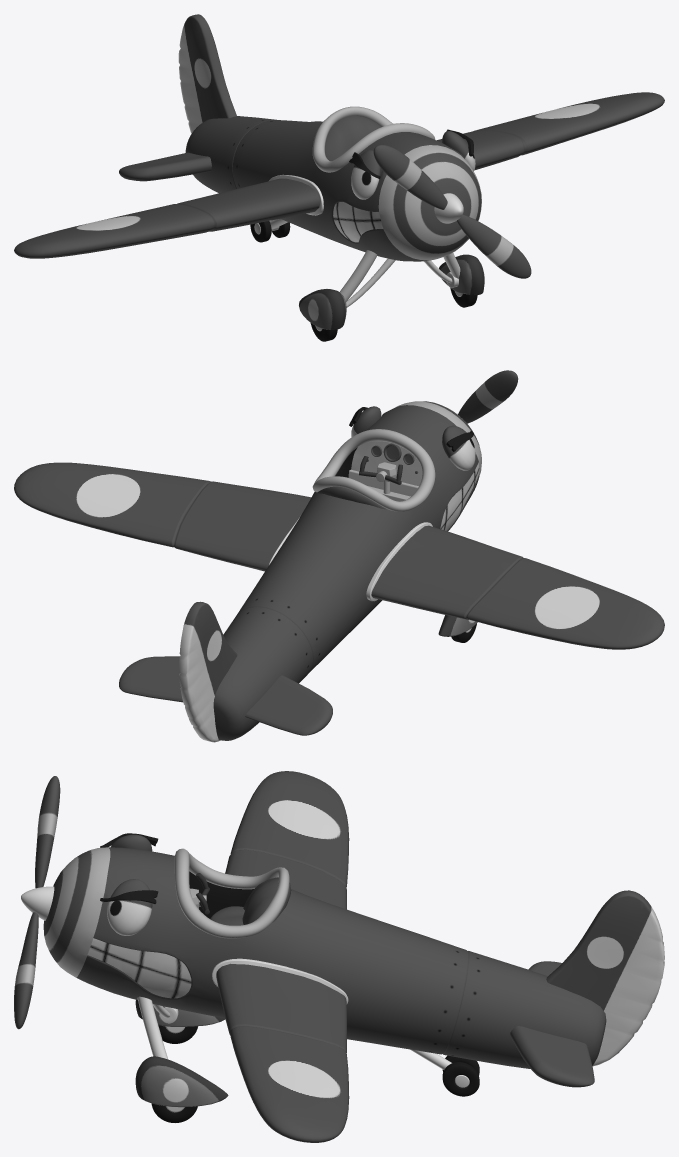
3 views of the same model, one above another, from view 1: azimuth 30°, elevation 25°; view 2: azimuth 150°, elevation 25°; view 3: azimuth 270°, elevation 25° (orthographic). The views are drawn at different scales.
Visible parts, largest first — view 1: personified_plane.1; view 2: personified_plane.1; view 3: personified_plane.1.
Part boxes in pixels (box(x1,y1,x2,y2)): personified_plane.1: box(14, 14, 664, 341); personified_plane.1: box(14, 370, 664, 742); personified_plane.1: box(14, 771, 664, 1142).
Bounding box in the file's own units: 0.2924 × 0.1035 × 0.2213.
1 material, 1 textured.
